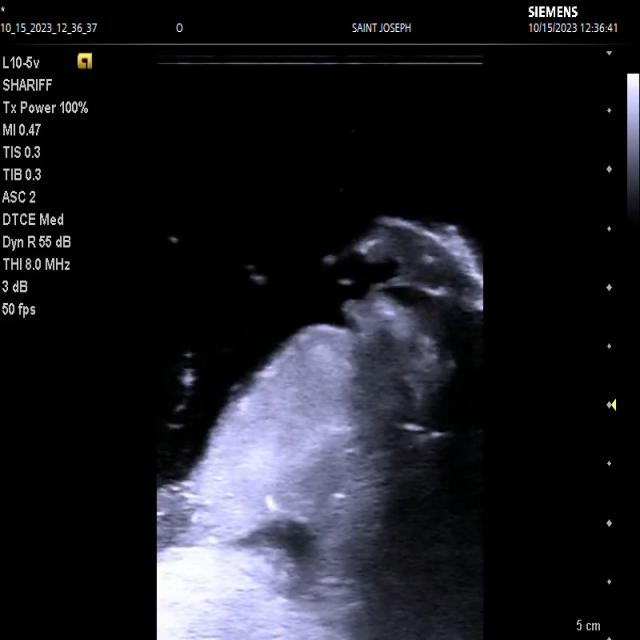tissue: (158, 218, 484, 640)
